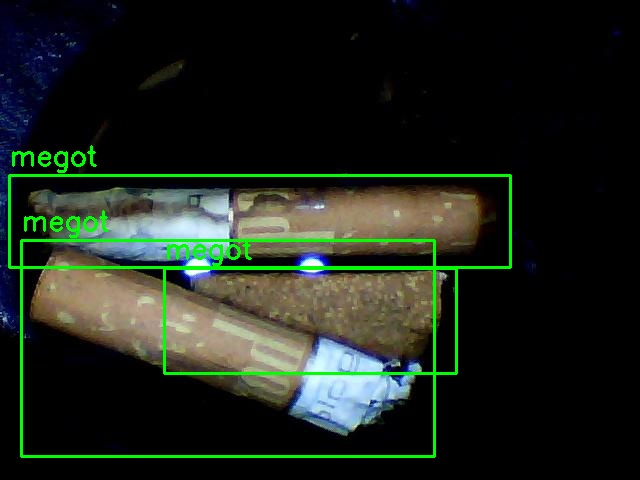megot: (21, 240, 434, 456), (9, 175, 510, 267), (164, 268, 456, 373)
